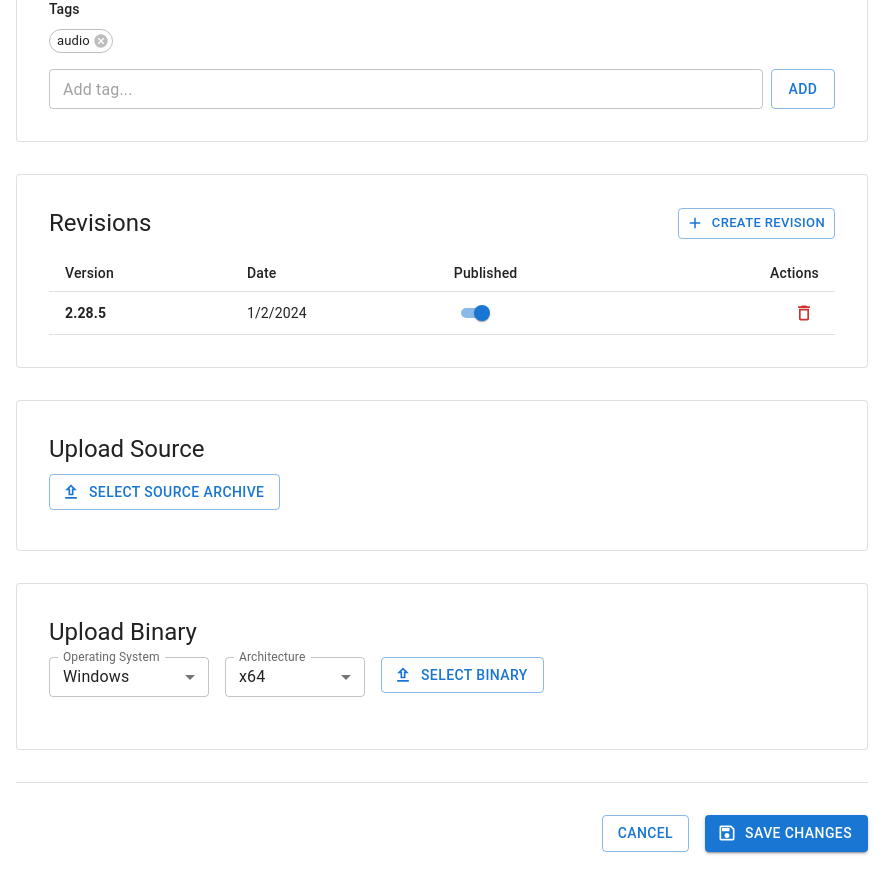
Test: dependency edit page › shows the API error and stays put when saving fails
(page scrolled)
Click the button "Save Changes" at coordinates (787, 833), box [705, 815, 868, 852]
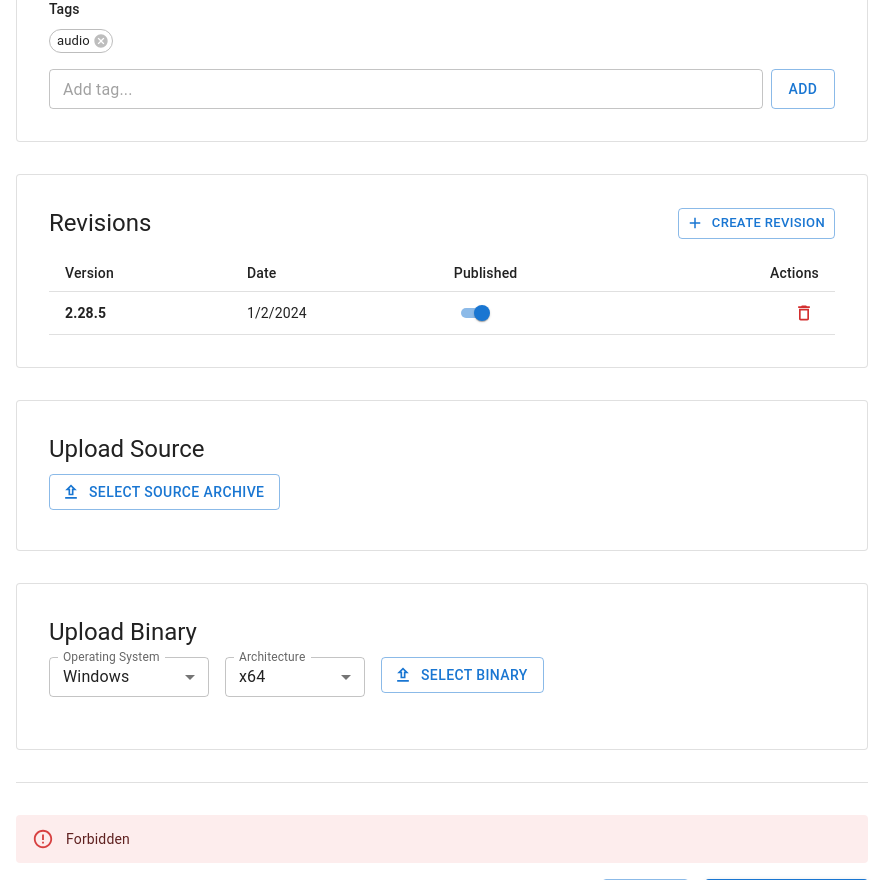
Check: the message with test id "save-error" reads "Forbidden", box [66, 831, 130, 847]
